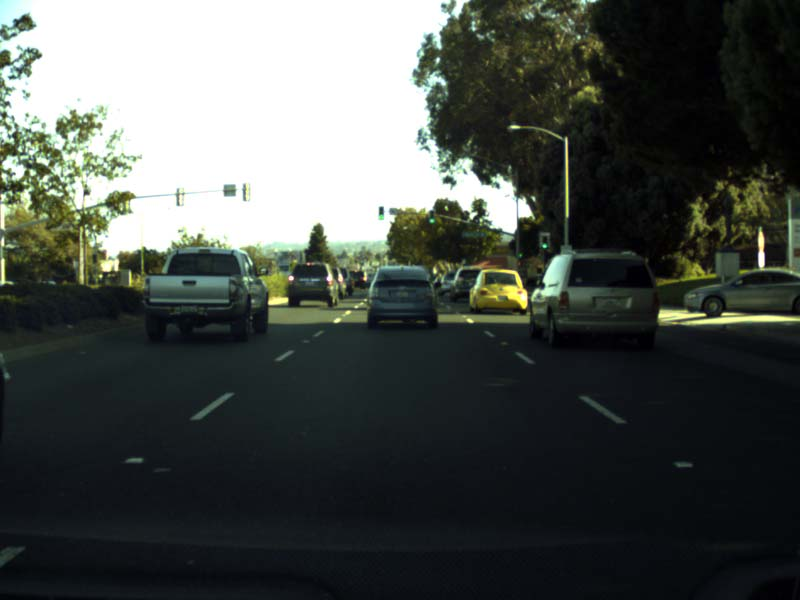Green: (539, 232, 549, 251), (429, 210, 434, 223), (378, 206, 383, 219), (517, 247, 522, 258)
